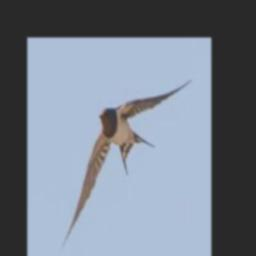Swallow: (60, 80, 193, 252)
